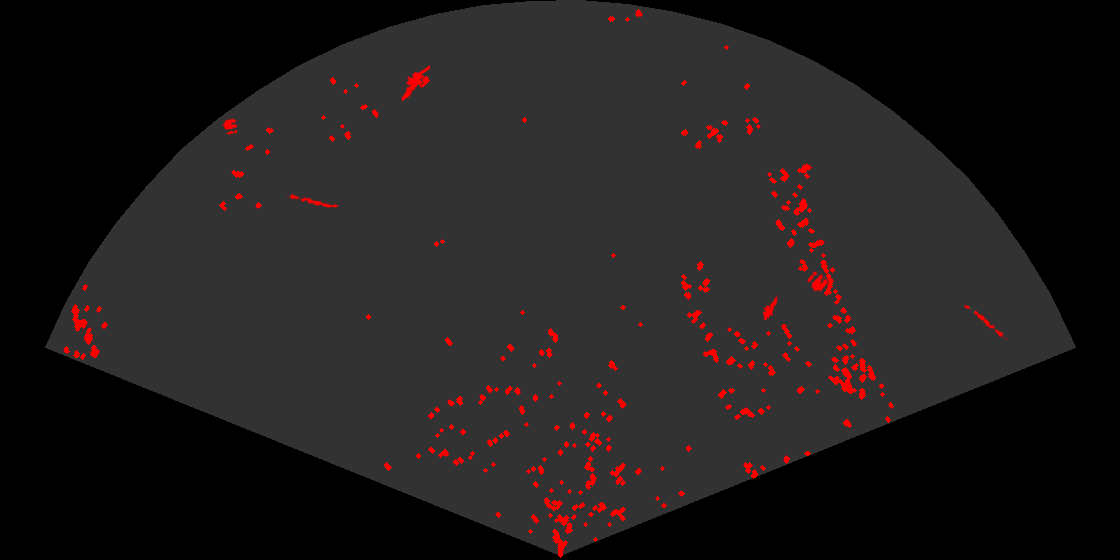ball: (805, 270, 829, 293), (221, 117, 239, 136)
chain: (962, 303, 1010, 341), (287, 192, 339, 210)
frogman: (400, 65, 430, 103), (761, 295, 778, 320)
